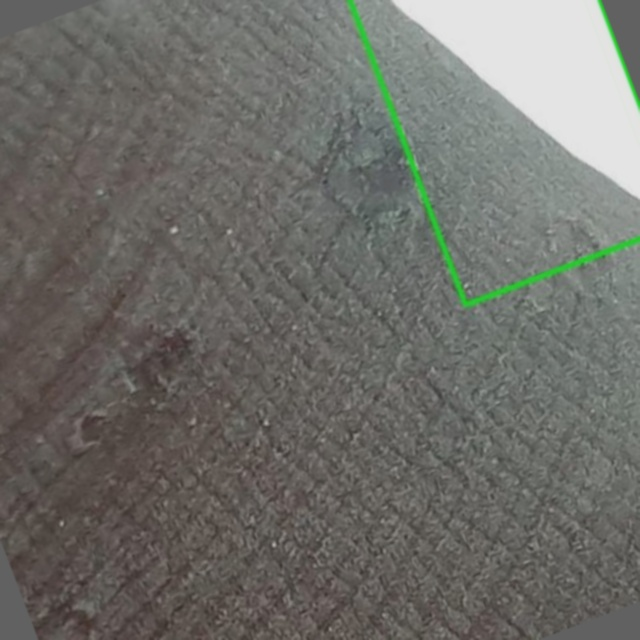Contact Dermatitis: (350, 0, 639, 306)
